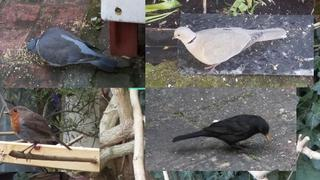blackbird: (172, 114, 270, 152)
collared dove: (172, 27, 287, 73)
robin: (3, 105, 73, 163)
wood pigeon: (27, 27, 119, 73)
